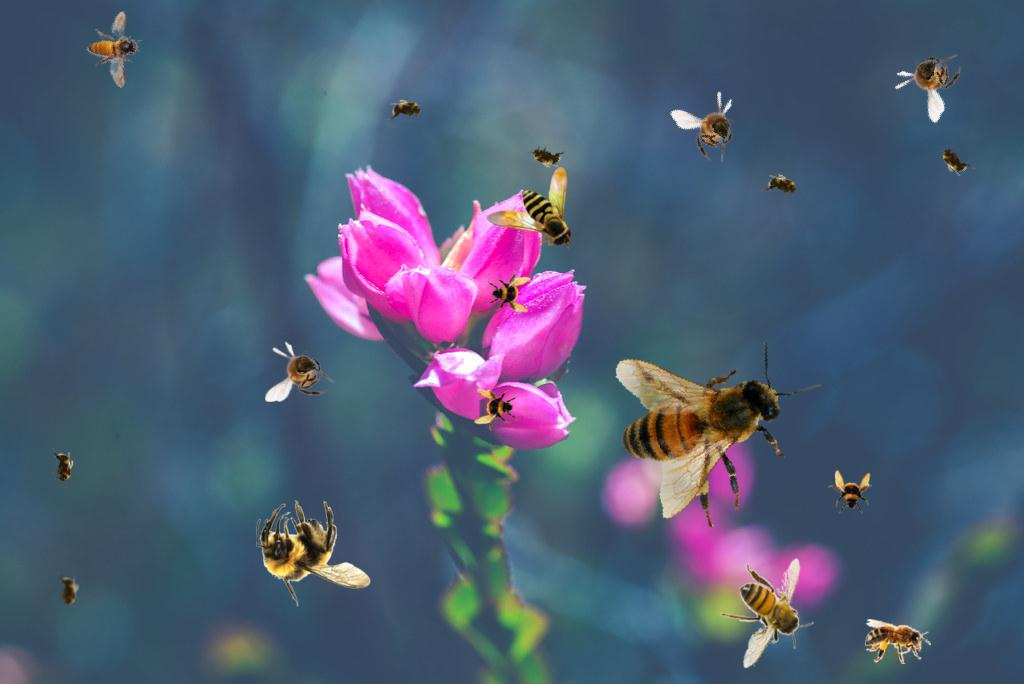Bee: (581, 303, 830, 549), (256, 500, 371, 607), (720, 558, 814, 669), (884, 32, 975, 124), (669, 81, 758, 173), (486, 167, 574, 249), (77, 3, 153, 90), (265, 341, 335, 402), (865, 619, 931, 664), (932, 137, 976, 183), (828, 470, 872, 514), (474, 387, 518, 431), (487, 270, 531, 314), (523, 139, 569, 173), (760, 169, 806, 203), (387, 99, 427, 121), (52, 448, 74, 488), (57, 572, 79, 612)
